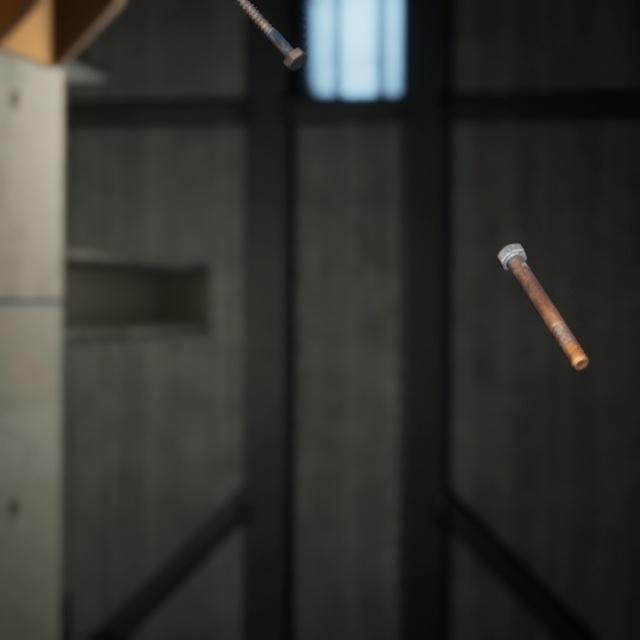bolt: (492, 222, 592, 356), (238, 0, 312, 66)
